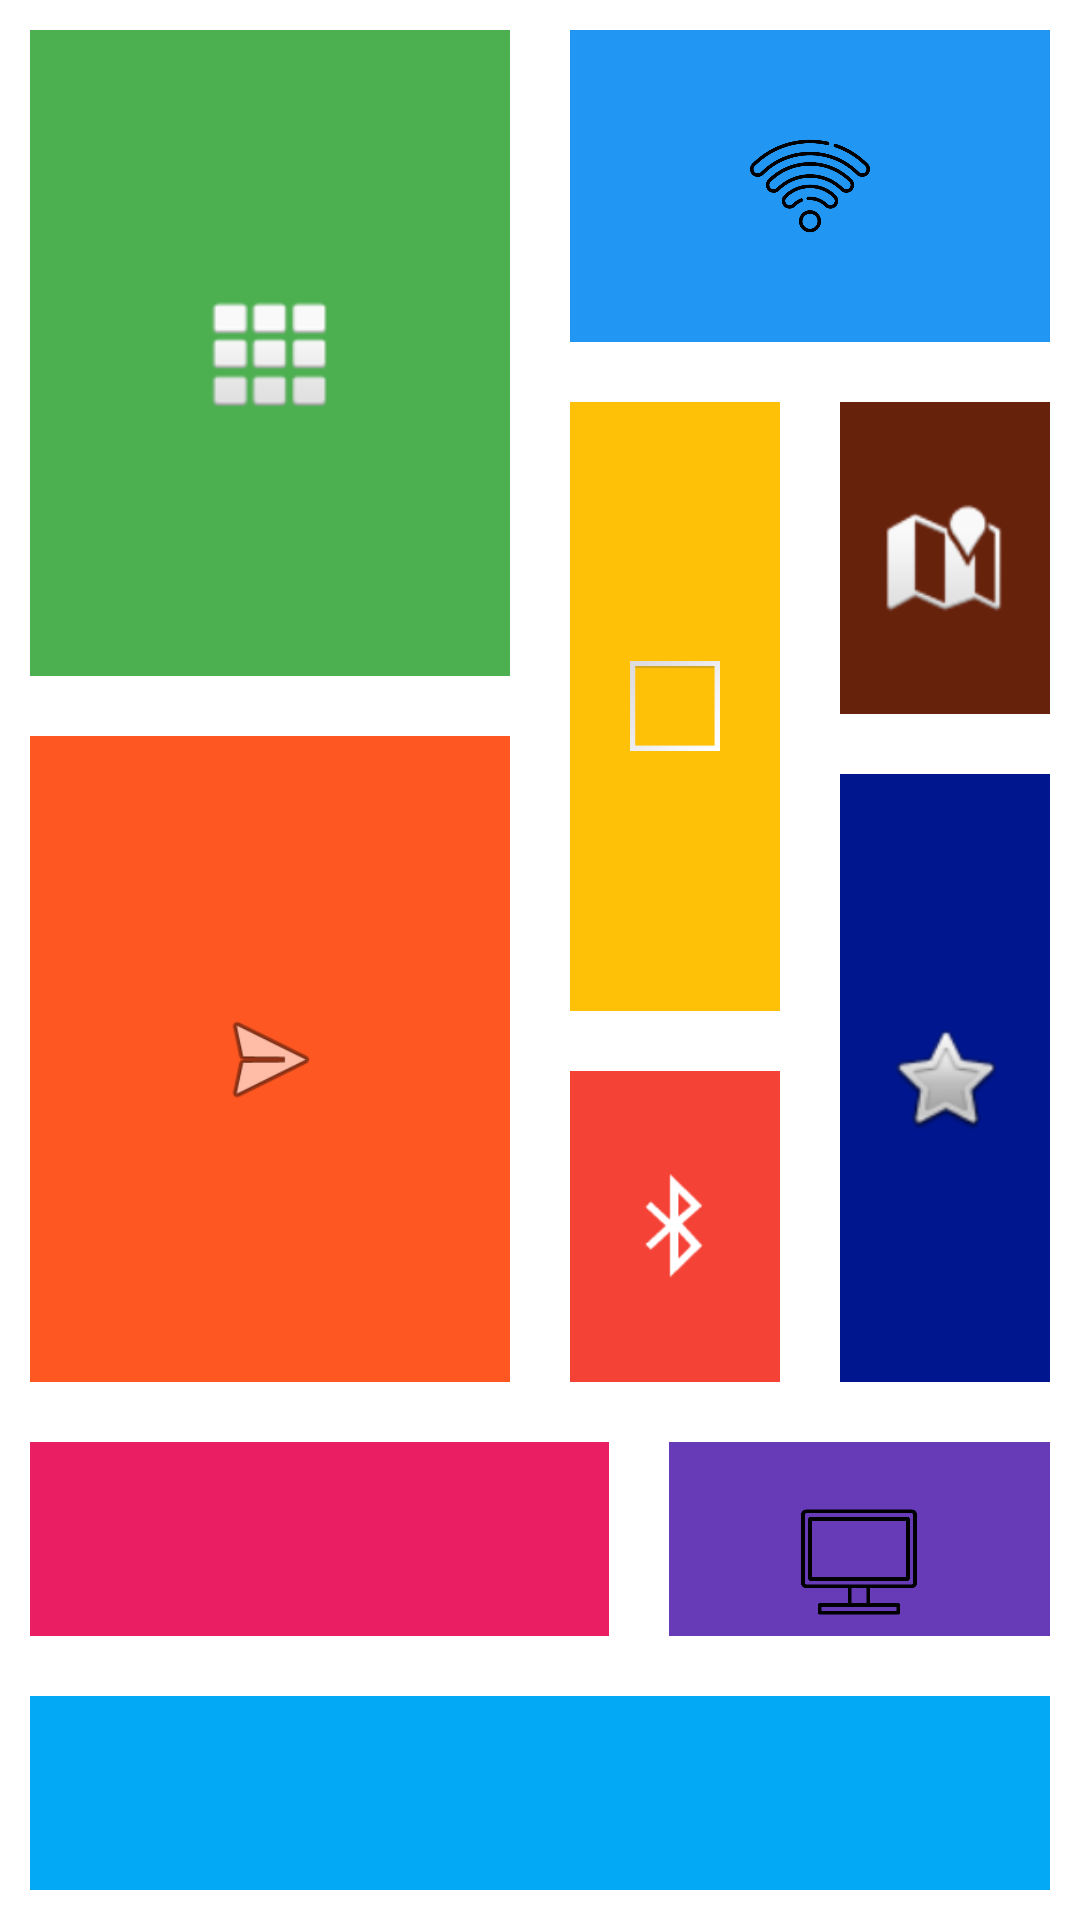

Icons on this 1080 × 1920 Android screen, each with its box as (x1, y1, x2, y2):
dialer: (212, 303, 327, 406)
map: (886, 505, 1002, 611)
send: (232, 1022, 310, 1098)
star off: (897, 1032, 995, 1127)
wifi: (750, 140, 870, 232)
